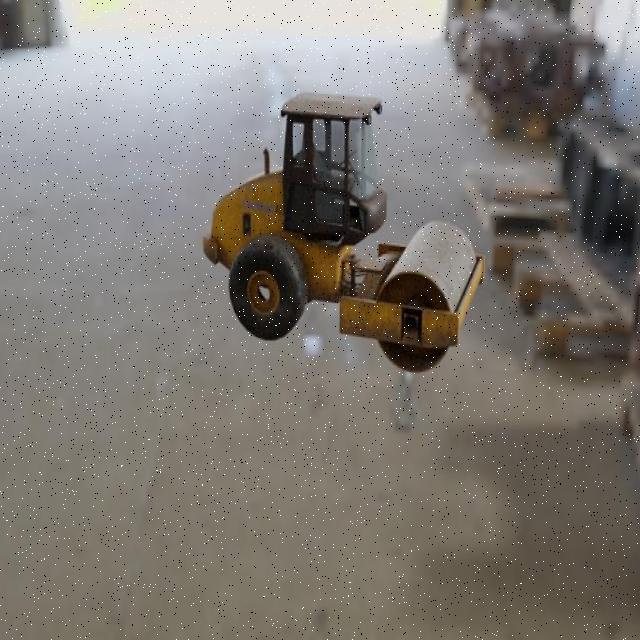Roller: (201, 92, 485, 374)
